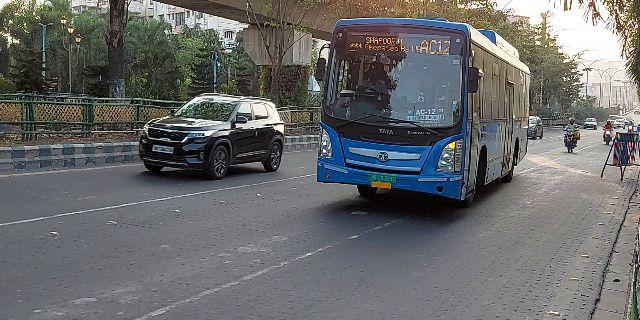Bus: (314, 16, 535, 209)
Car: (138, 90, 287, 177)
Motorbike: (558, 116, 581, 156)
